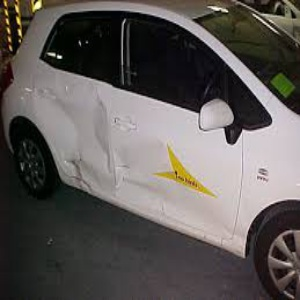door: (56, 99, 144, 187)
